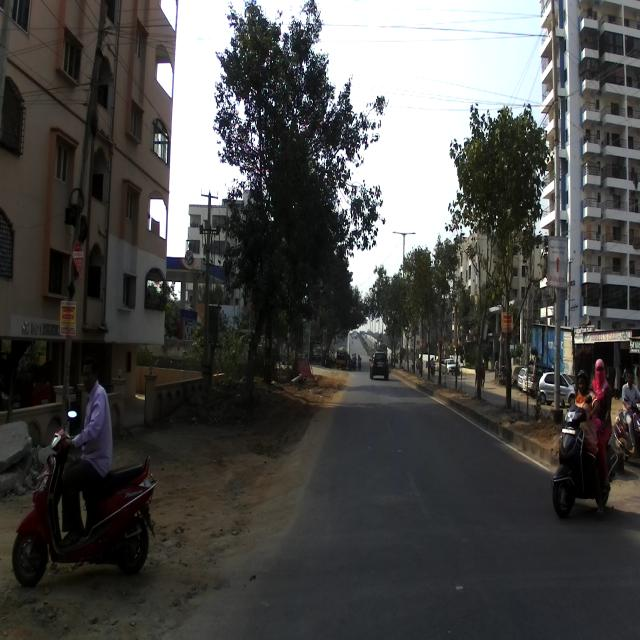motorcycle ahead at: (5, 409, 157, 591), (551, 394, 618, 524)
